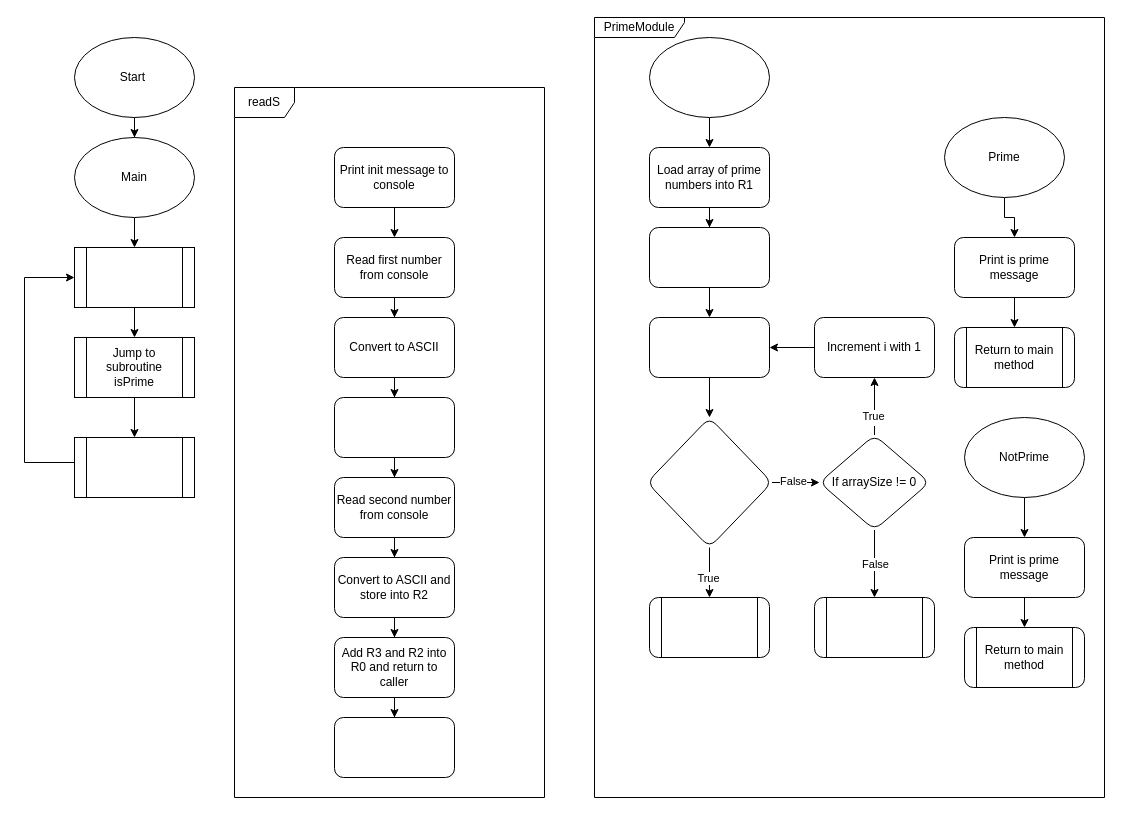
Some shapes in this 1122 by 815 pixel diagram are drawn without their labels. The shapes that lost their labels are listed below. From the top down, each one's box as (x1, y1, x2, y2) in pixels, then its label:
(648, 36, 770, 118): isPrime
(74, 246, 194, 308): Jump to subroutine readS
(648, 226, 770, 288): Load size of array into R2
(648, 316, 770, 378): Load array index i
(334, 396, 454, 458): Times the number by 10 and store in R3
(74, 436, 194, 498): Jump to Main
(646, 416, 772, 548): Check if they are equal
(648, 596, 770, 658): Jump to Prime
(814, 596, 934, 658): Jump to NotPrime
(334, 716, 454, 778): Return to caller
